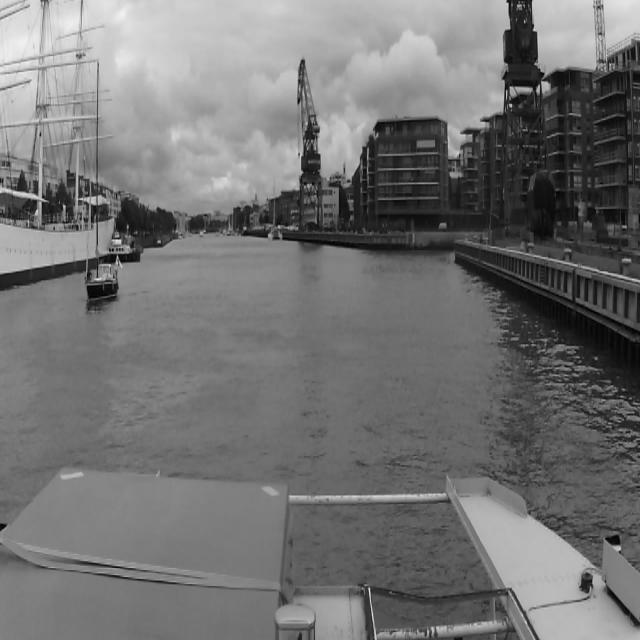ship: (0, 0, 118, 285), (85, 49, 118, 303), (268, 176, 283, 240), (109, 239, 141, 263)
